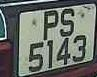1: (45, 39, 55, 71)
3: (69, 34, 86, 62)
4: (55, 35, 71, 65)
5: (26, 43, 46, 73)
P: (40, 10, 61, 42)
S: (58, 8, 76, 39)
